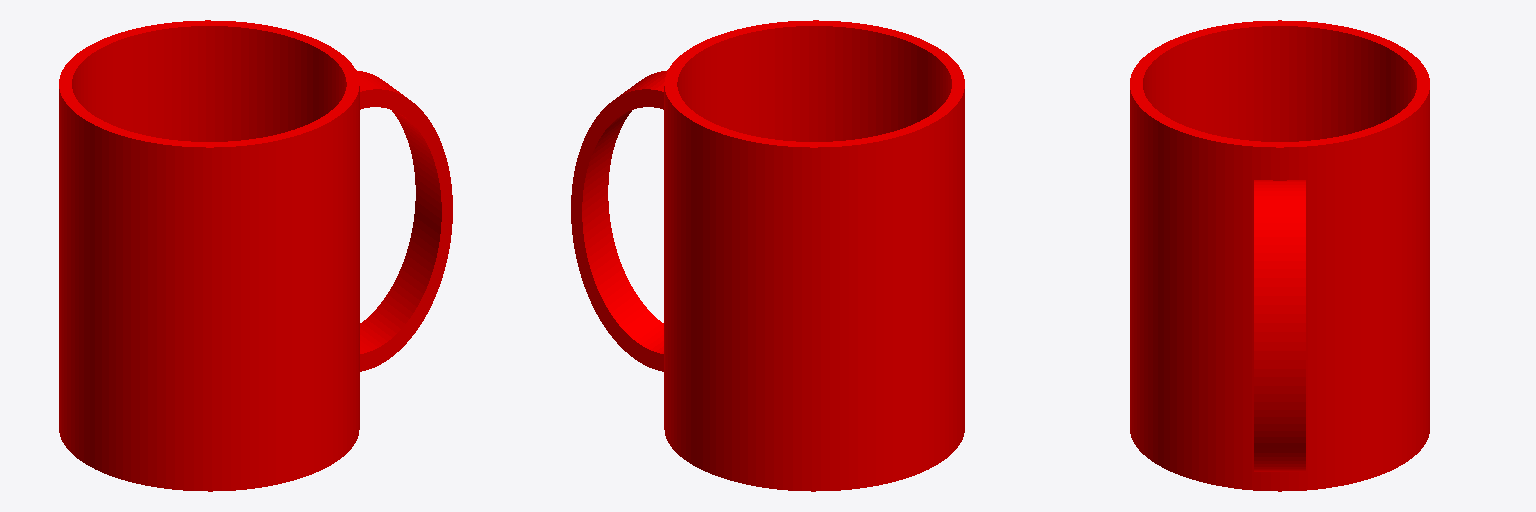
URDF robot description (mug.urdf):
<?xml version="1.0" ?>
<robot name="mug.urdf">
  <link name="baseLink">
    <inertial>
      <origin rpy="0 0 0" xyz="0 0 0"/>
       <mass value=".1"/>
       <inertia ixx="1" ixy="0" ixz="0" iyy="1" iyz="0" izz="1"/>
    </inertial>
    <contact>
      <lateral_friction value="1.0"/>
      <inertia_scaling value="3.0"/>
    </contact>
    <visual>
      <origin rpy="0 0 0" xyz="0 0 0"/>
      <geometry>
        <mesh filename="14.stl" scale="1 1 1" />
      </geometry>
      <material name="red">
        <color rgba="1 0 0 1"/>
      </material>
    </visual>
    <collision>
      <origin rpy="0 0 0" xyz="0 0 0"/>
      <geometry>
        <mesh filename="14_convex.obj" scale="1 1 1" />
      </geometry>
    </collision>
  </link>
</robot>

--- Facts derived from the render (not from the file) ---
The picture shows the robot from 3 angles, left to right: view 1: azimuth 30°, elevation 25°; view 2: azimuth 150°, elevation 25°; view 3: azimuth 270°, elevation 25°; orthographic projection.
Model mug.urdf with 1 links and 0 joints (none), rooted at baseLink, posed all joints at 0.
Links seen in each view (by area): view 1: baseLink; view 2: baseLink; view 3: baseLink.
Link boxes in pixels (x1=…): baseLink: x1=59, y1=20, x2=452, y2=491; baseLink: x1=571, y1=20, x2=964, y2=491; baseLink: x1=1130, y1=20, x2=1429, y2=491.
Size in the robot's own frame: 0.1605 by 0.1158 by 0.1462 metres.
1 mesh visuals loaded from 1 distinct referenced files (1 binary STL).